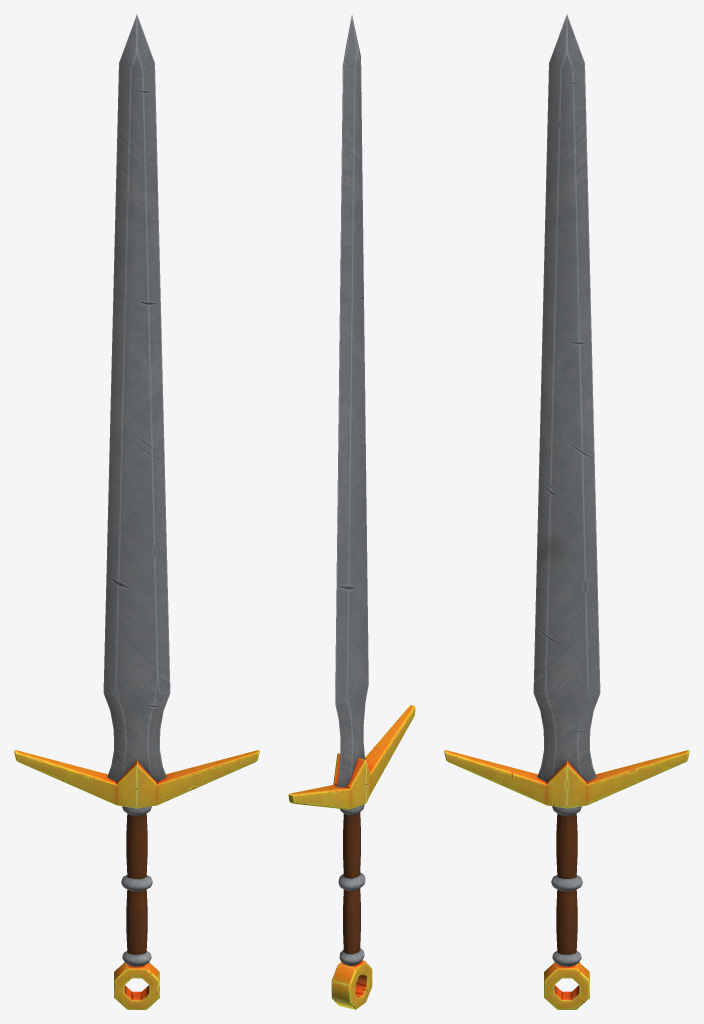
Rendered from SM_Longsword.fbx.
The picture shows the model from 3 angles, left to right: view 1: azimuth 90°, elevation 25°; view 2: azimuth 150°, elevation 25°; view 3: azimuth 270°, elevation 25°; orthographic projection.
Parts seen in each view (by area): view 1: SM_Longsword_LOD0; view 2: SM_Longsword_LOD0; view 3: SM_Longsword_LOD0.
Part boxes in pixels (x1,y1,x2,y2): SM_Longsword_LOD0: [14, 14, 259, 1009]; SM_Longsword_LOD0: [288, 15, 415, 1009]; SM_Longsword_LOD0: [444, 14, 689, 1009].
Size of the model in its own units: 5.49 by 39.48 by 176.
Materials: 1 (1 with a texture image).
